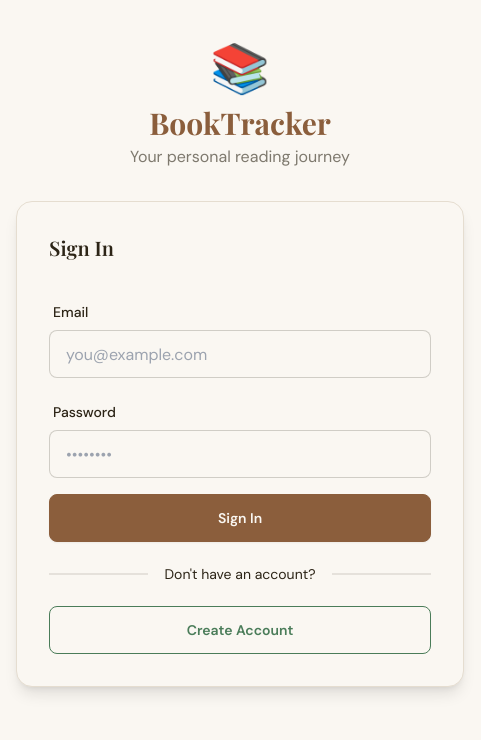
Test: LoginPage Component Unit Tests › API Error Handling › should display the server error message when the API returns a 401
Type "wrong@burch.edu" into the field named "Email Address" at [240, 354], box [49,330,431,378]
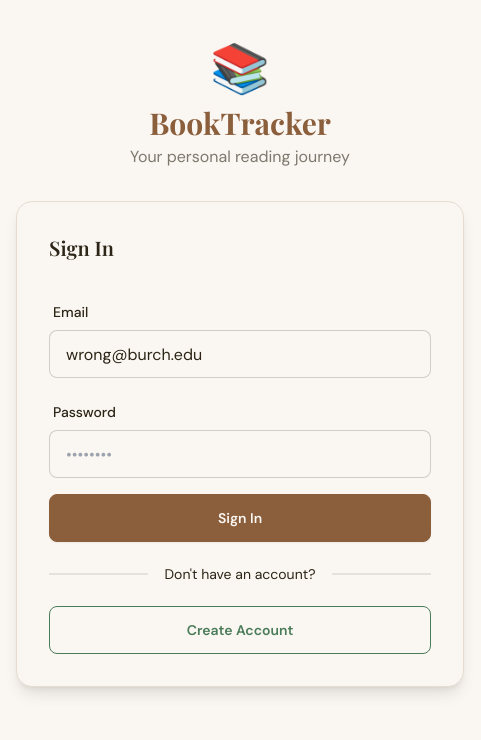
Type "wrongpassword" into the password field labelled "Password" at [240, 454], box [49,430,431,478]
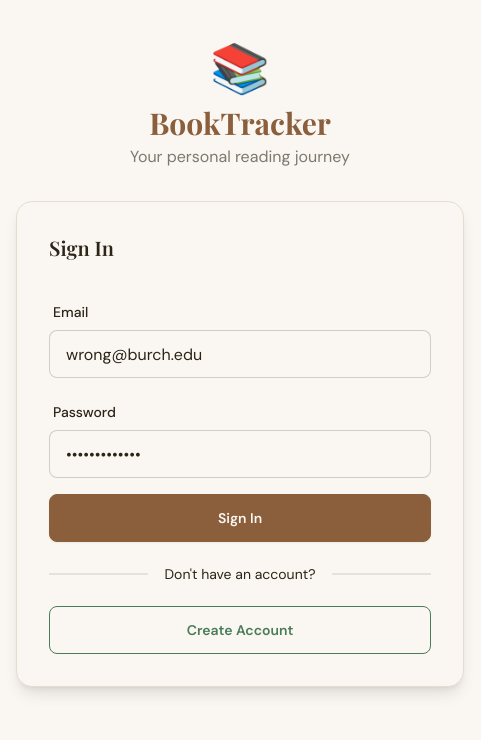
Click the button "Sign In" at [240, 518], box [49,494,431,542]
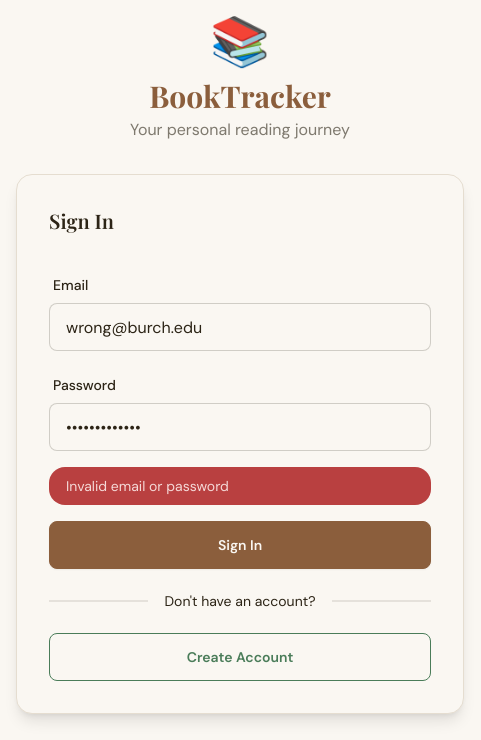
Expected: the message reads "Invalid email or password", [66,477,229,495]
